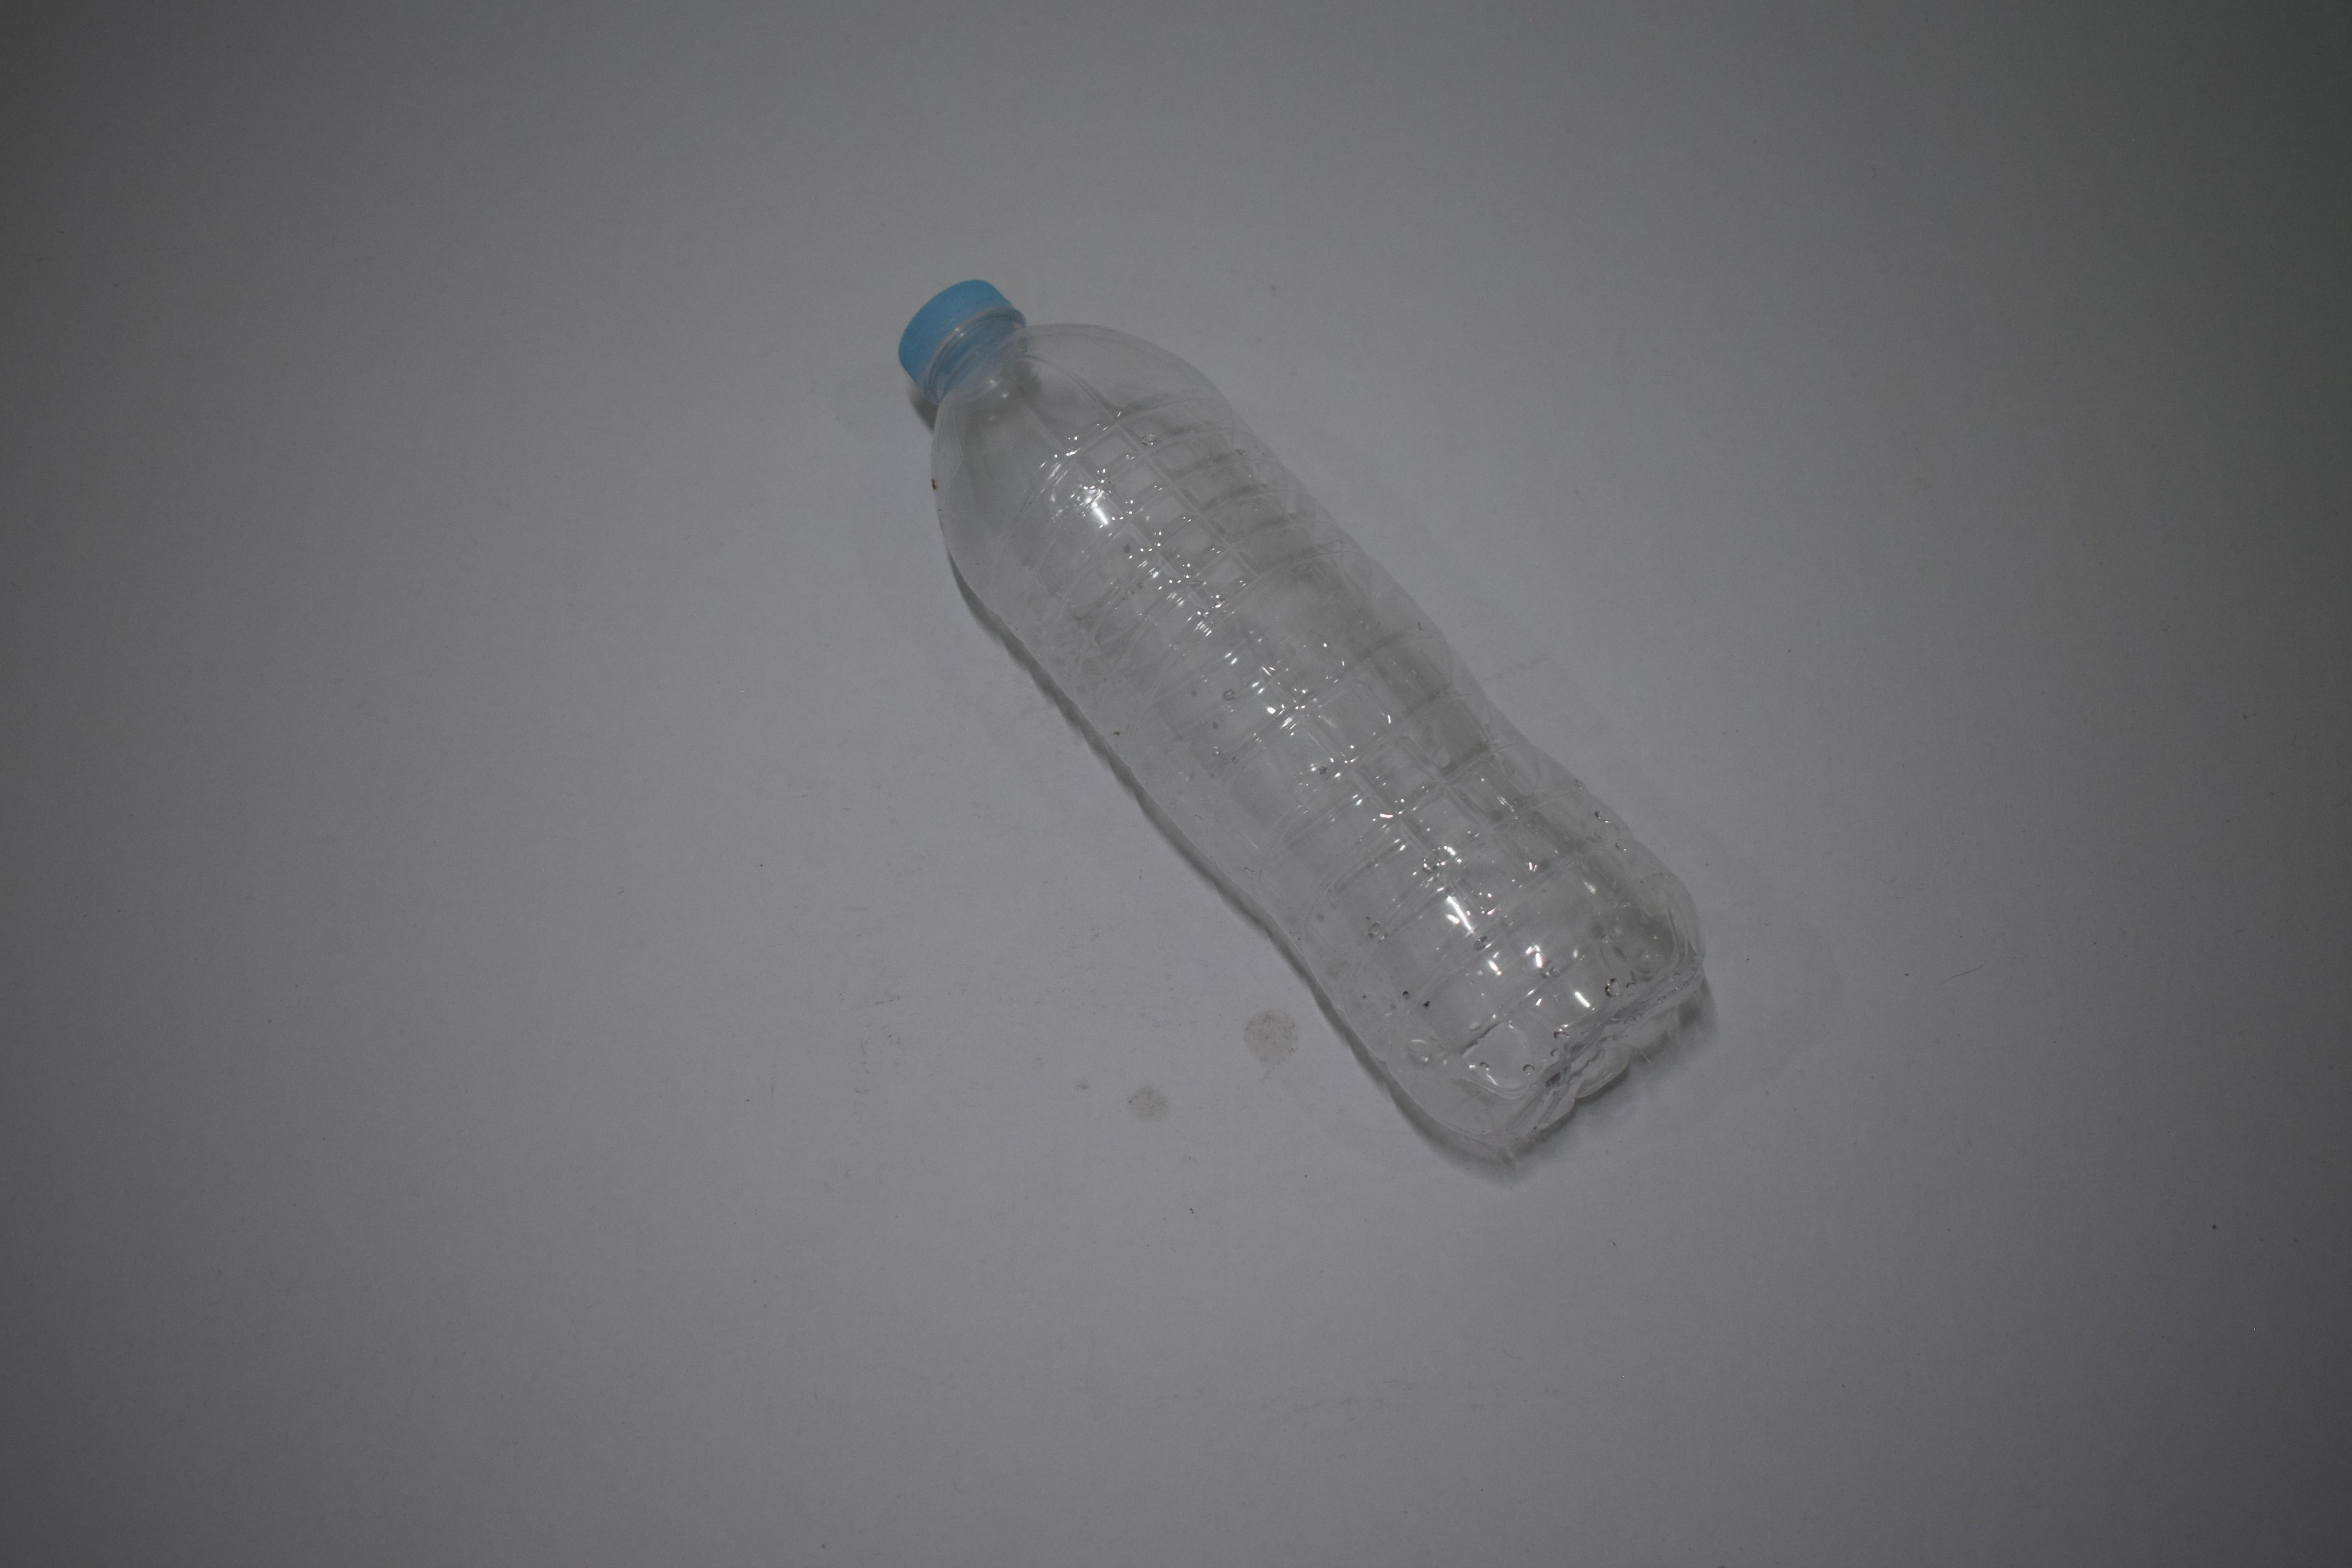bottle: (0, 667, 354, 779)
